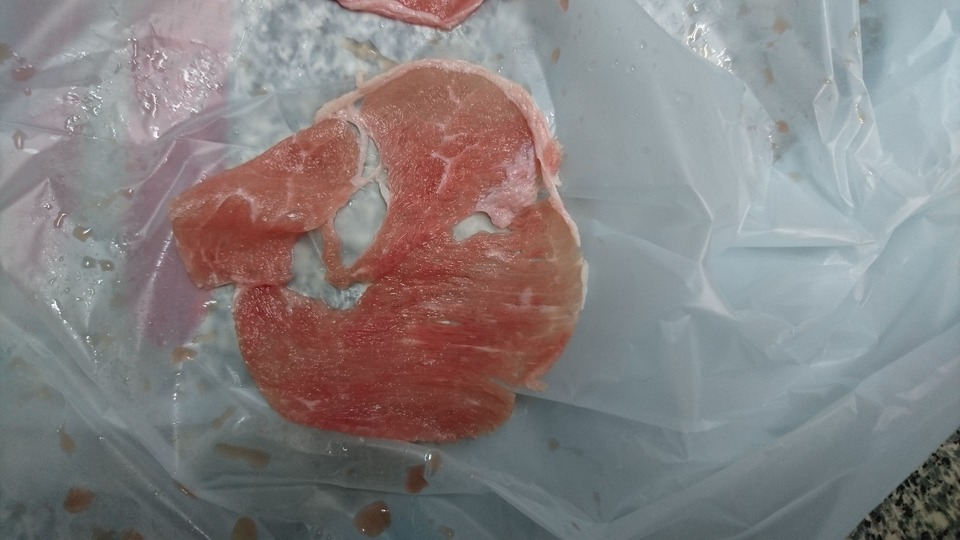restructured meat: (174, 83, 600, 440)
